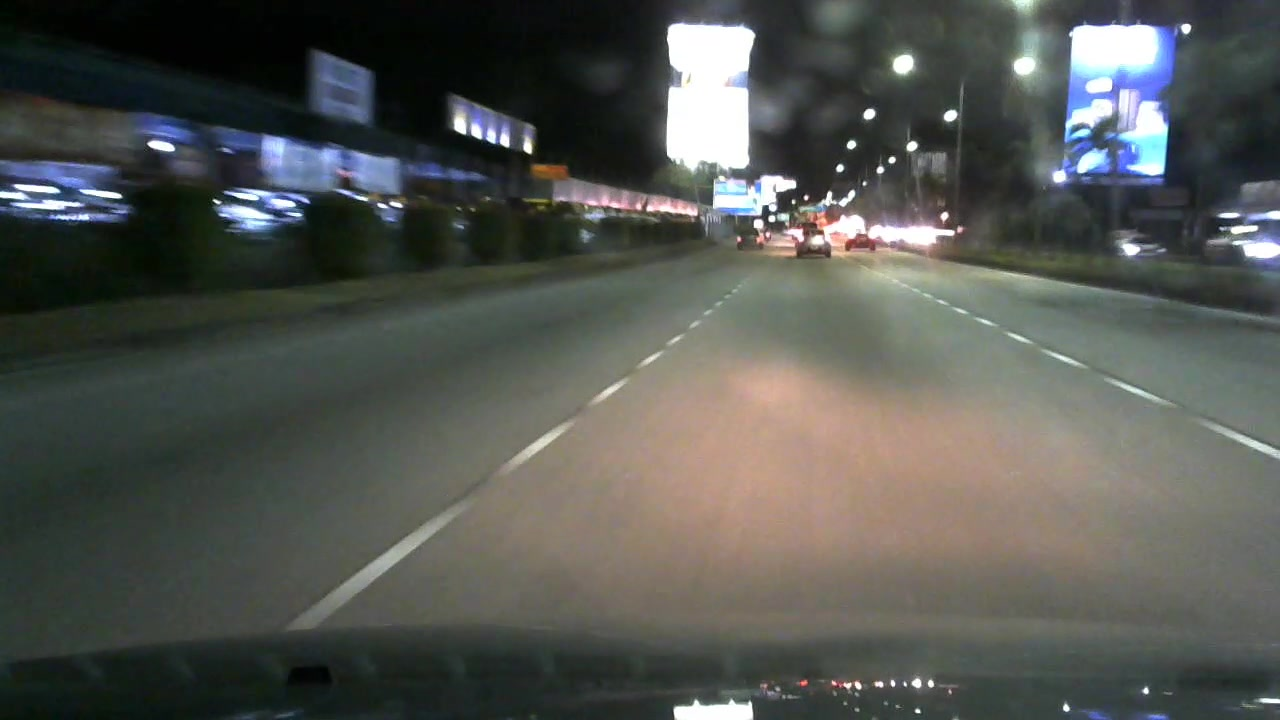Car: (794, 223, 838, 267), (845, 221, 881, 255), (732, 226, 769, 253)
